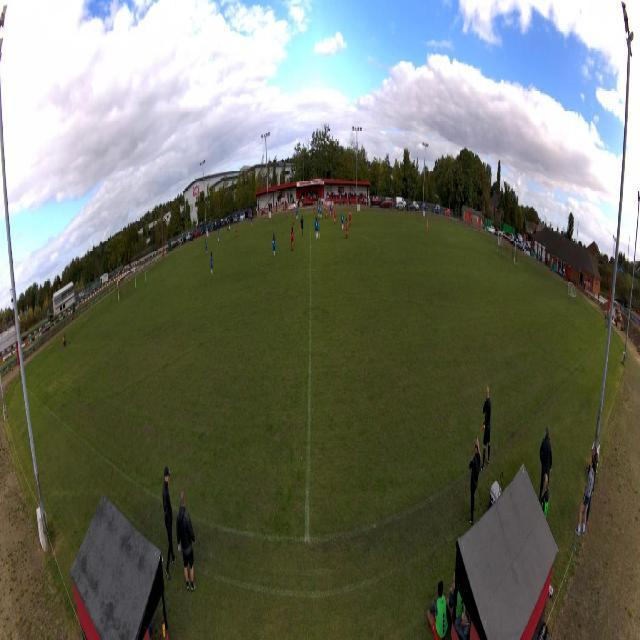ball: (252, 215, 253, 217)
player: (272, 232, 277, 259), (290, 226, 295, 252), (210, 251, 214, 278), (300, 214, 304, 238), (314, 217, 318, 241), (345, 218, 349, 239), (341, 211, 345, 231), (348, 208, 352, 228), (334, 207, 337, 225), (205, 238, 208, 255), (296, 205, 299, 222), (426, 217, 429, 234), (235, 223, 238, 239), (325, 204, 328, 220), (317, 203, 320, 218), (285, 205, 288, 219), (320, 205, 323, 219), (145, 270, 147, 288), (293, 210, 295, 228), (329, 201, 331, 217), (331, 201, 333, 217), (217, 227, 219, 242), (313, 202, 315, 217), (251, 214, 253, 225)
